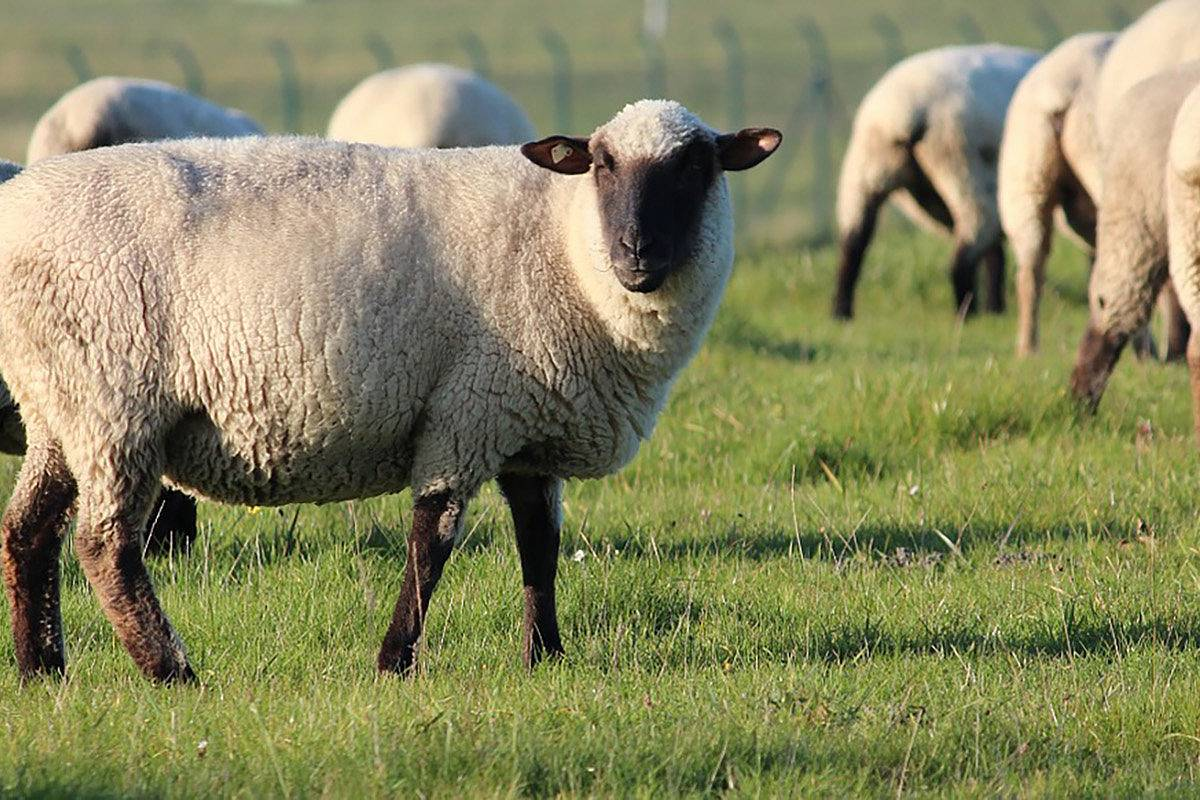sheep: (1, 100, 796, 661), (1003, 34, 1199, 402), (824, 39, 1024, 365)
